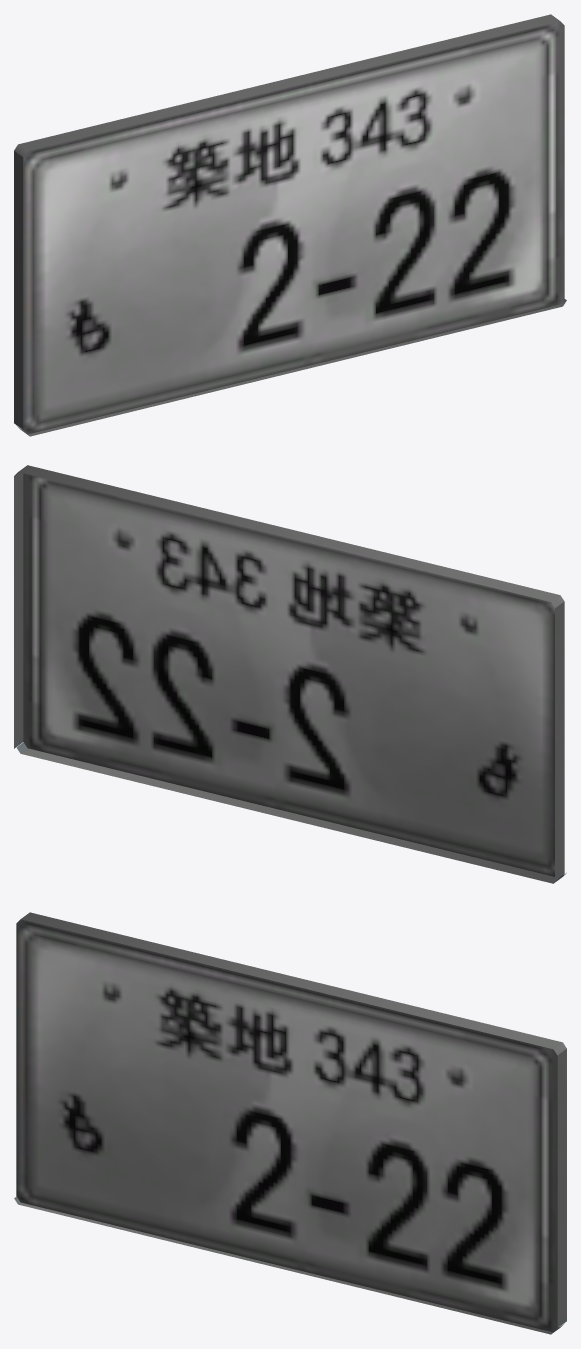
The model's file is plate_r.fbx.
3 renders of one model, top to bottom at view 1: azimuth 30°, elevation 25°; view 2: azimuth 150°, elevation 25°; view 3: azimuth 330°, elevation 25°, orthographic.
Parts seen in each view (by area): view 1: plate_r; view 2: plate_r; view 3: plate_r.
Part boxes in pixels (box(x1,y1,x2,y2)): plate_r: box(14, 14, 566, 436); plate_r: box(14, 465, 566, 883); plate_r: box(14, 912, 566, 1334).
Size of the model in its own units: 0.33 by 0.1652 by 0.0126.
